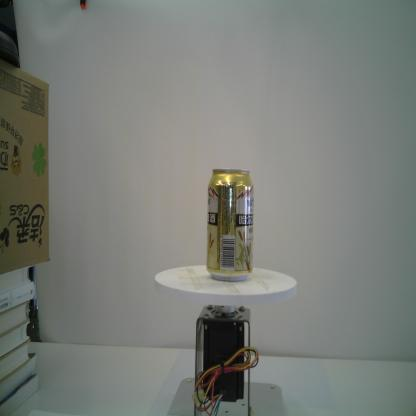Alcohol: (204, 166, 256, 284)
